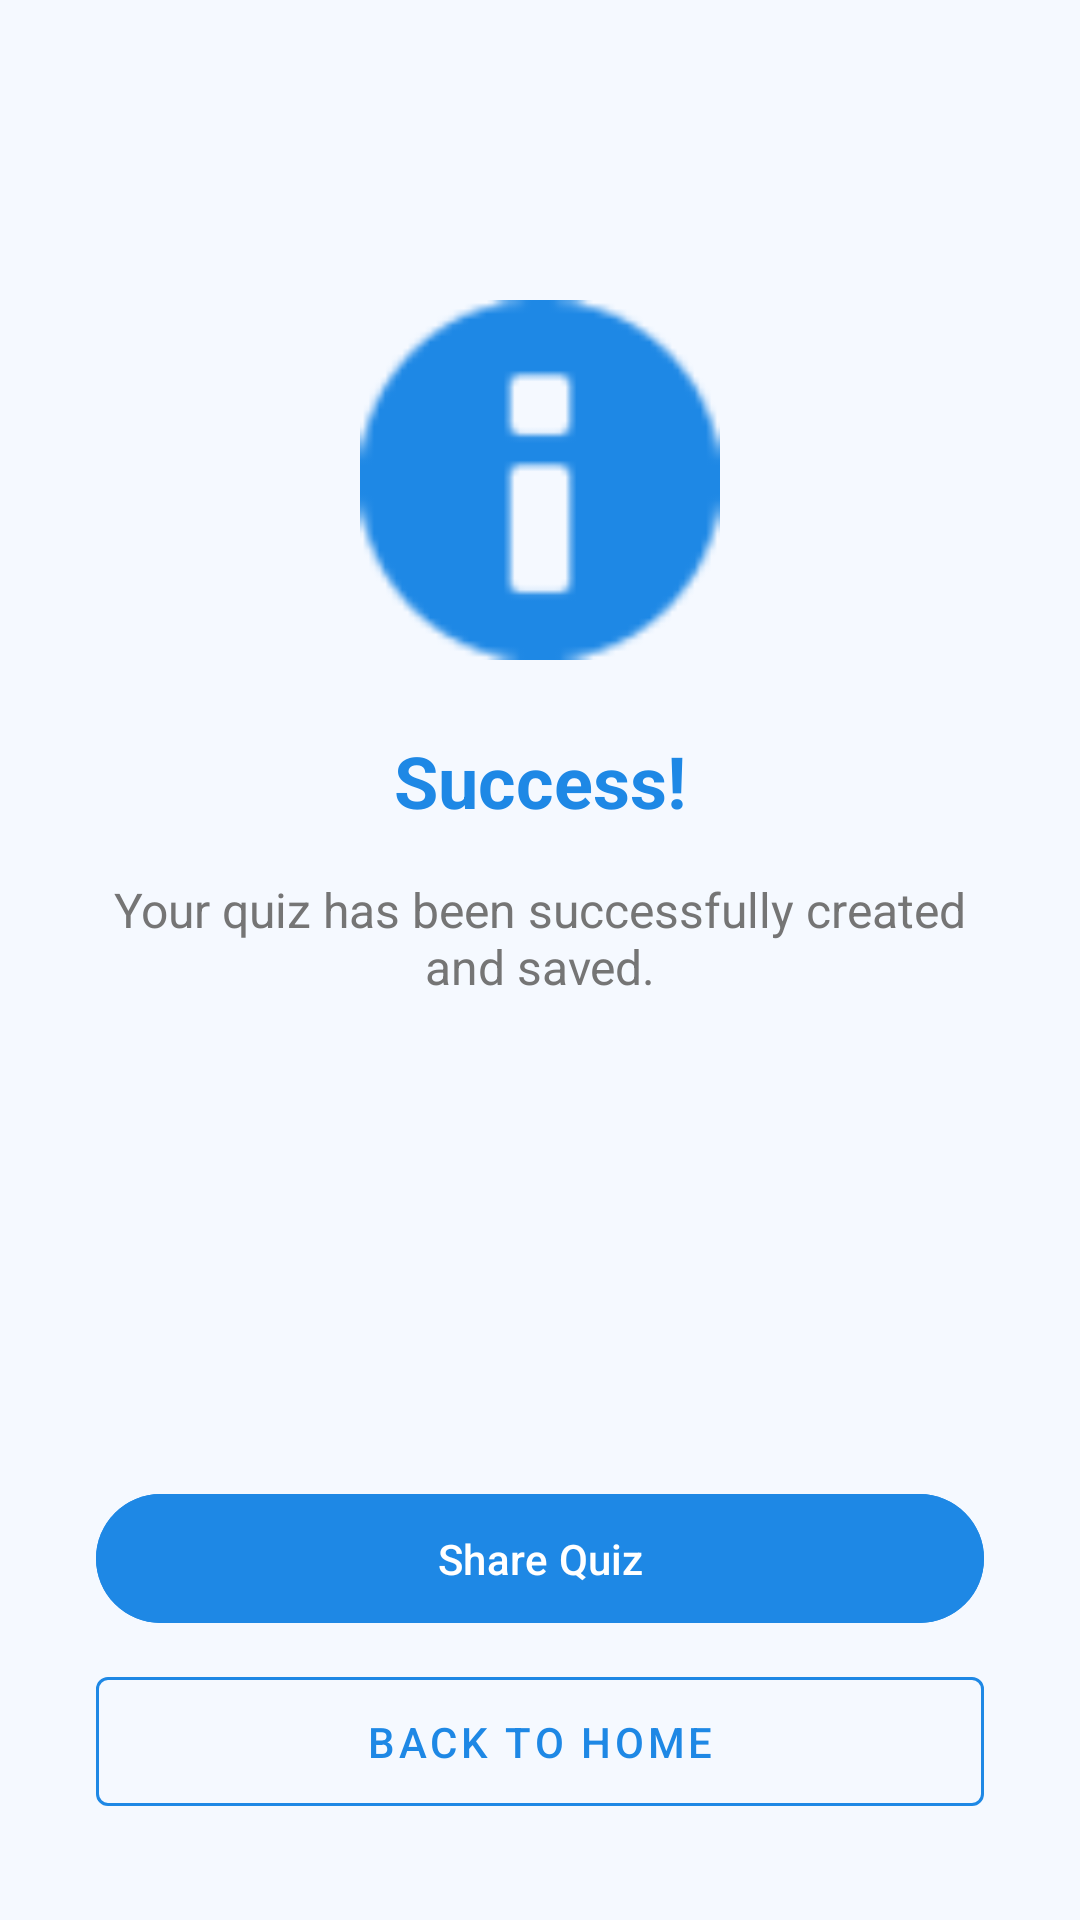

Where icons sit on this 1080w x 1920h app screen, as region(x1, y1, x2, y2):
info: region(360, 300, 720, 660)
